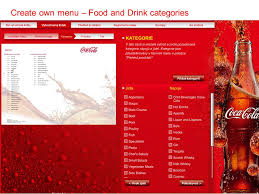coke: (213, 26, 257, 194)
